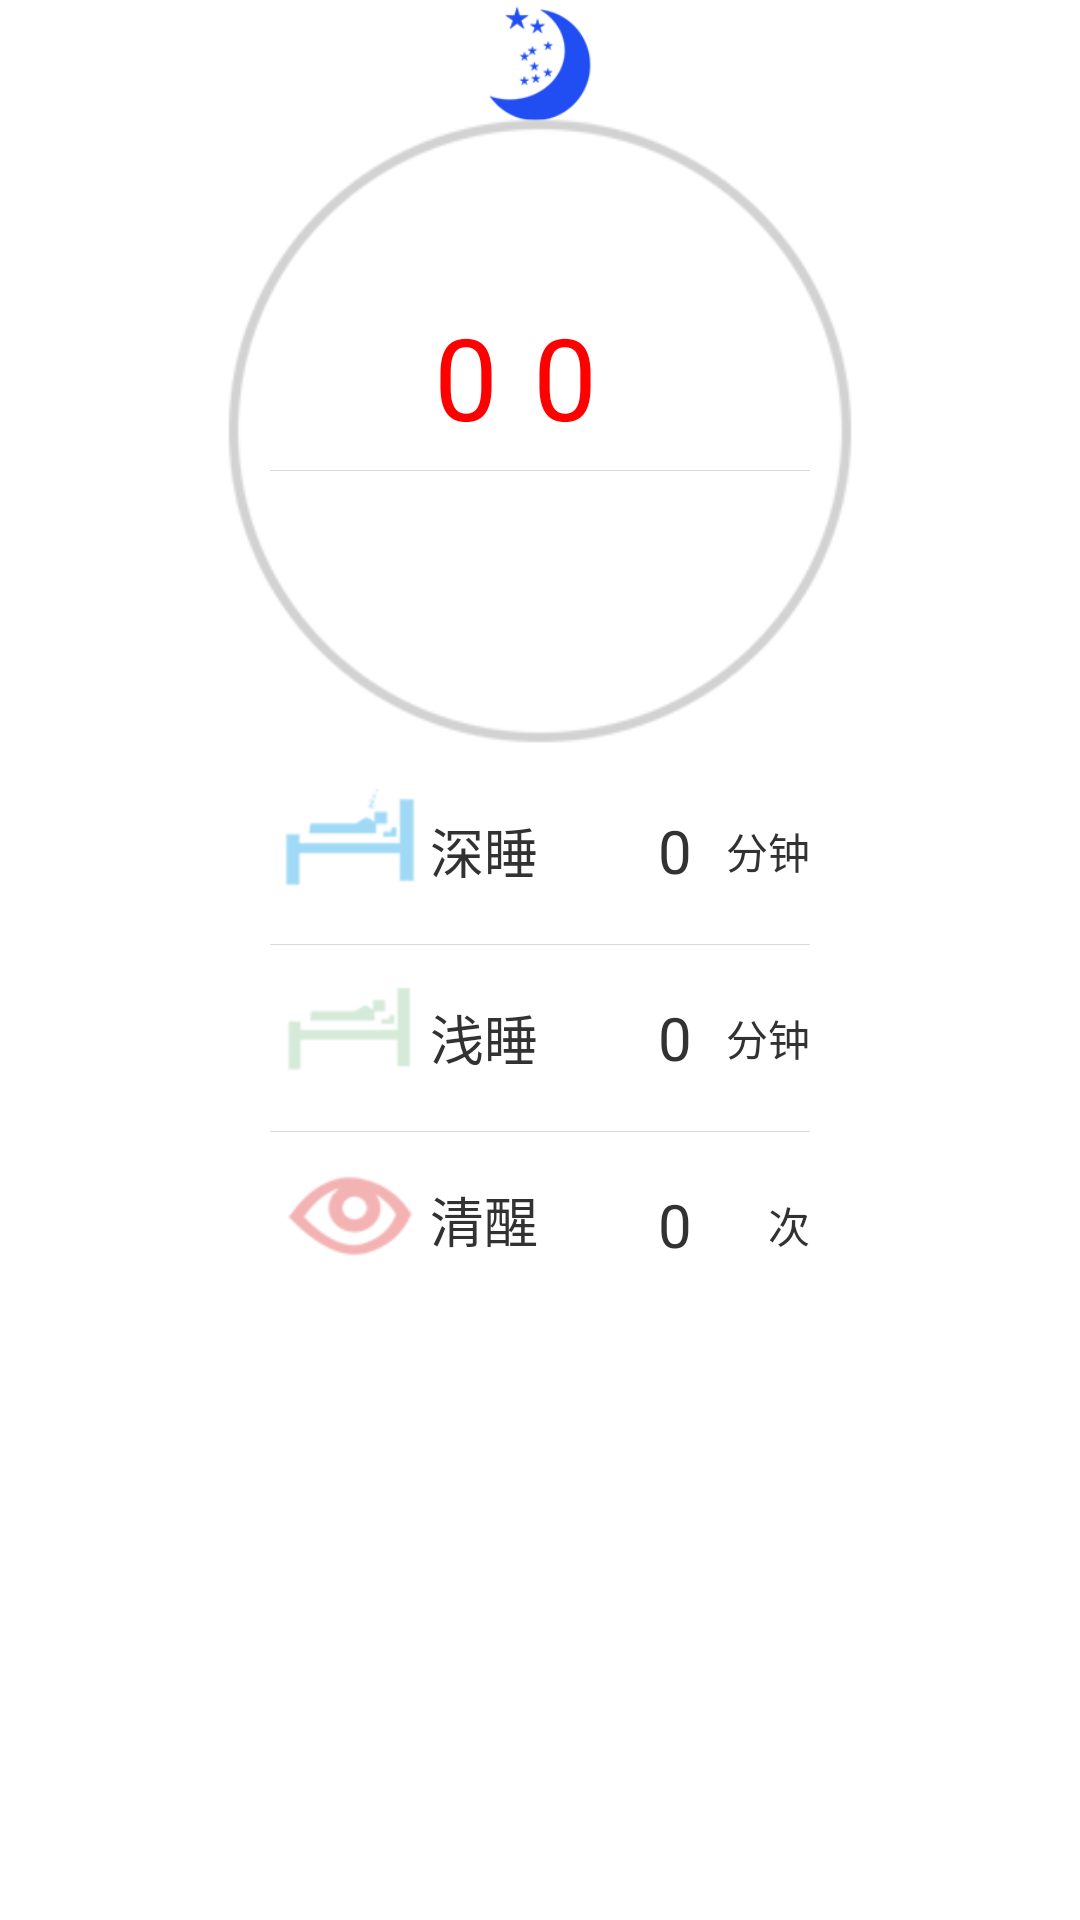

Point at icon controls on the screen. Image size 1080×1920, points as (x=x, y=y).
awake: (x=350, y=1216)
deep sleep: (x=350, y=837)
